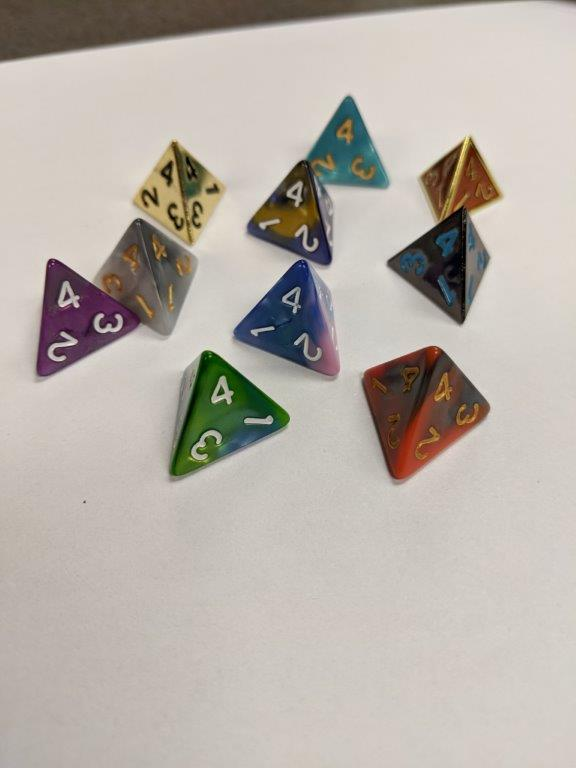d4-4: (165, 349, 294, 487), (364, 345, 491, 481), (88, 217, 200, 339), (233, 254, 338, 380), (384, 206, 492, 327), (34, 259, 141, 381), (133, 138, 226, 245), (244, 157, 338, 262), (304, 91, 391, 193), (415, 135, 503, 223)
